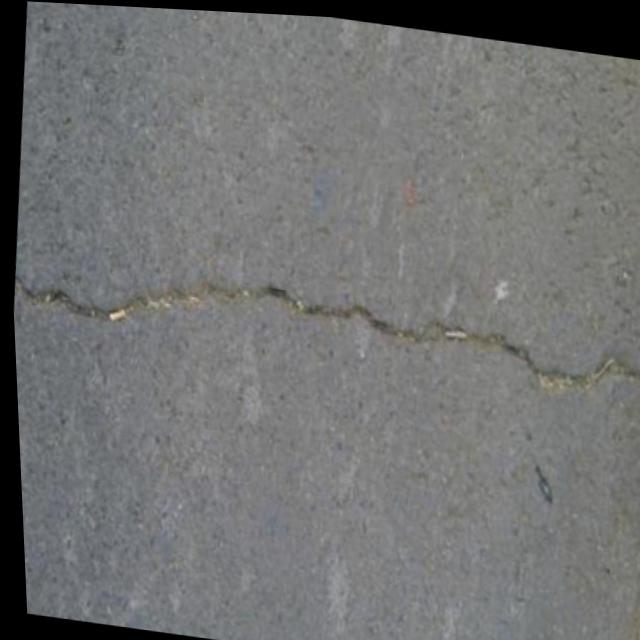Crack: (7, 210, 640, 440)
